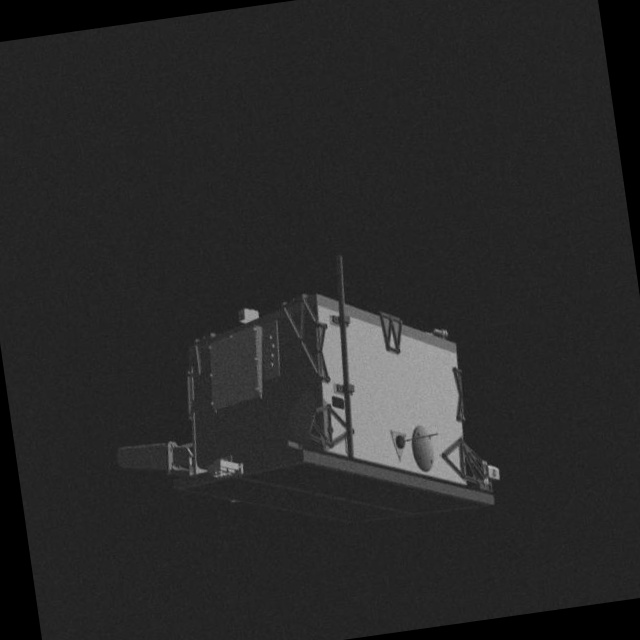satellite: (73, 261, 513, 568)
